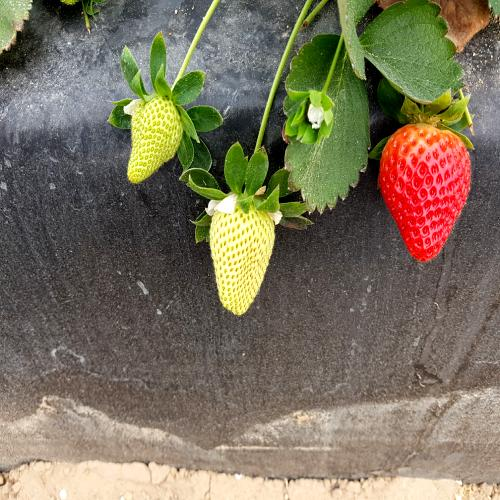ripe: (382, 121, 475, 266)
unripe: (207, 192, 280, 317), (123, 94, 187, 189)
